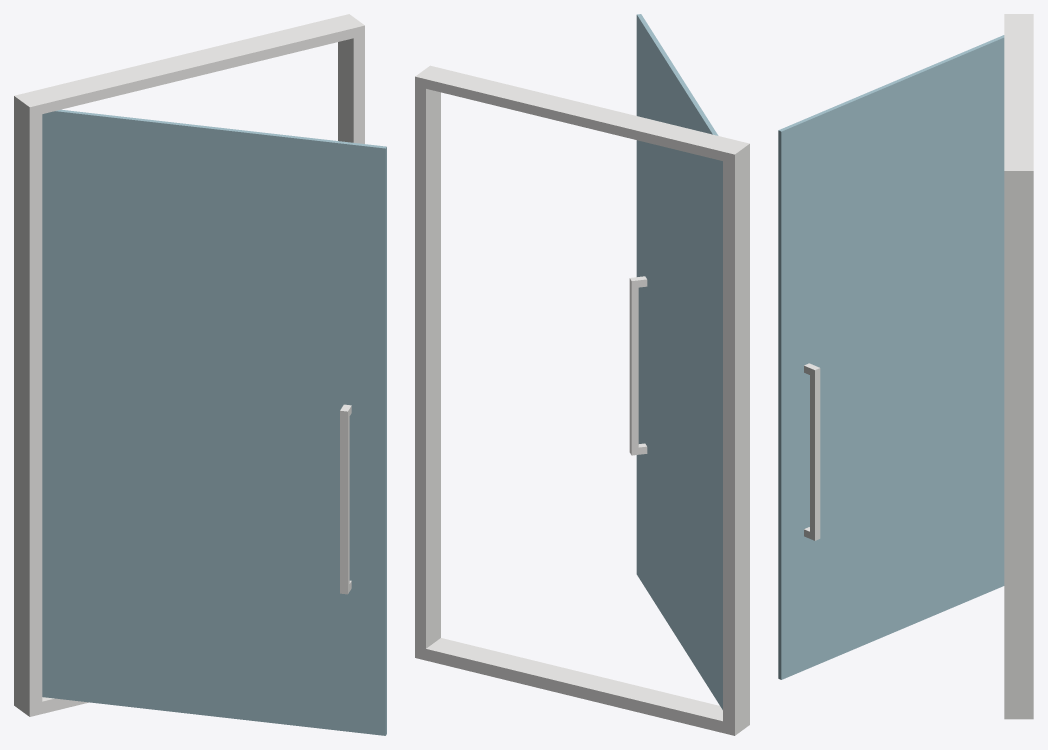
File: Door_7.fbx
The picture shows the model from 3 angles, left to right: view 1: azimuth 30°, elevation 25°; view 2: azimuth 150°, elevation 25°; view 3: azimuth 270°, elevation 25°; orthographic projection. The views are drawn at different scales.
Parts seen in each view (by area): view 1: Door_7; view 2: Door_7; view 3: Door_7.
Boxes of the visible parts, bbox=[...] form: Door_7: bbox=[14, 14, 386, 735]; Door_7: bbox=[415, 14, 749, 735]; Door_7: bbox=[778, 14, 1033, 719].
Size of the model in its own units: 206 by 145 by 358.
